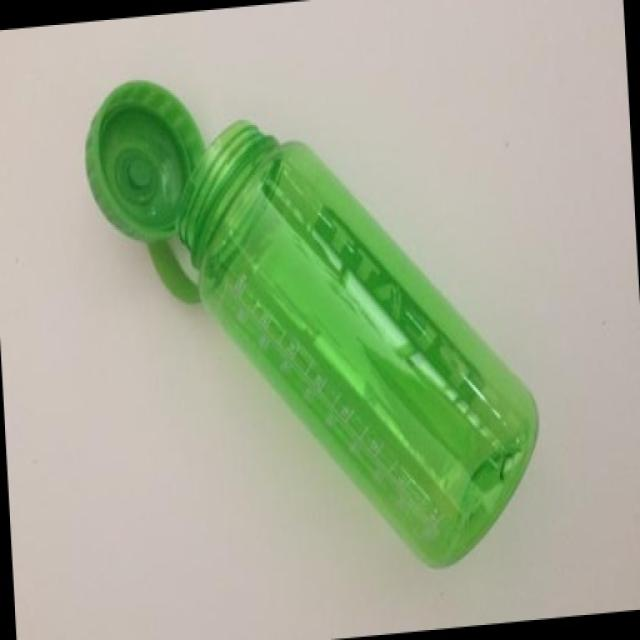plastico: (71, 36, 578, 609)
